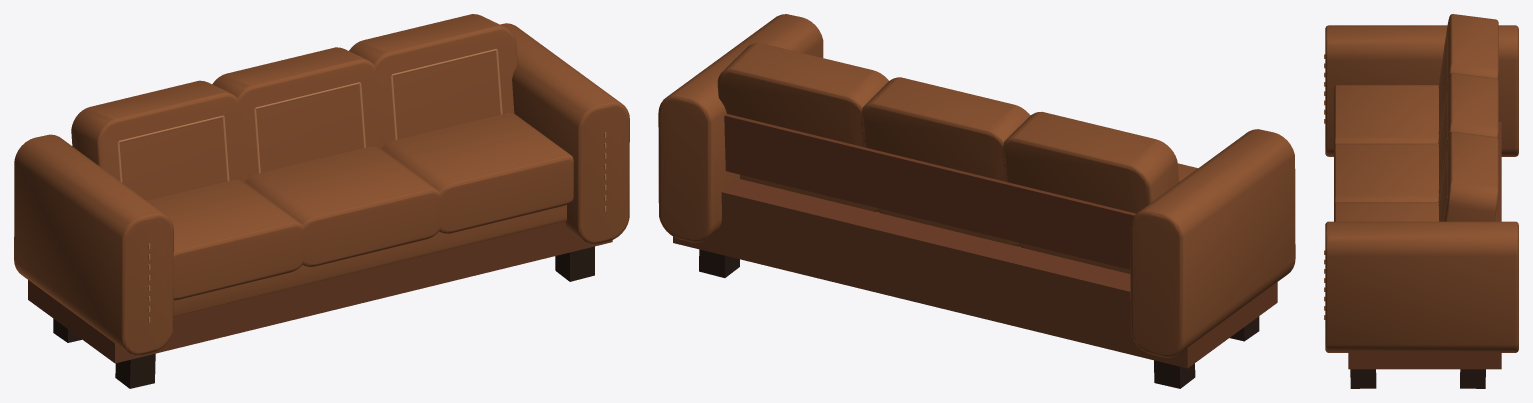
Rendered from cognac-leather-sofa-armDepth-max.glb.
The picture shows the model from 3 angles, left to right: view 1: azimuth 30°, elevation 25°; view 2: azimuth 150°, elevation 25°; view 3: azimuth 270°, elevation 25°; orthographic projection. The views are drawn at different scales.
Parts seen in each view (by area): view 1: sofa-part-28, sofa-part-4, back-cushion-3-part-0, seat-cushion-2-part-0, seat-cushion-1-part-0, back-cushion-2-part-0, back-cushion-1-part-0, sofa-part-7, seat-cushion-3-part-0, sofa-part-5, sofa-part-2, sofa-part-0; view 2: sofa-part-4, sofa-part-28, sofa-part-6, sofa-part-7, back-cushion-3-part-0, back-cushion-1-part-0, back-cushion-2-part-0, sofa-part-3, sofa-part-1, seat-cushion-3-part-0, seat-cushion-2-part-0, seat-cushion-1-part-0; view 3: sofa-part-7, sofa-part-28, seat-cushion-2-part-0, seat-cushion-3-part-0, back-cushion-1-part-0, back-cushion-2-part-0, back-cushion-3-part-0, sofa-part-4, seat-cushion-1-part-0, sofa-part-0, sofa-part-1.
Part boxes in pixels (x1,y1,x2,y2): sofa-part-28: (14,134,173,355); sofa-part-4: (28,221,612,363); back-cushion-3-part-0: (71,80,245,200); seat-cushion-2-part-0: (245,146,443,267); seat-cushion-1-part-0: (381,112,573,233); back-cushion-2-part-0: (212,47,380,179); back-cushion-1-part-0: (349,14,517,148); sofa-part-7: (500,23,629,244); seat-cushion-3-part-0: (147,179,306,300); sofa-part-5: (173,205,566,316); sofa-part-2: (115,353,155,388); sofa-part-0: (555,246,594,281); sofa-part-4: (673,179,1277,368); sofa-part-28: (1130,129,1295,357); sofa-part-6: (724,114,1135,269); sofa-part-7: (658,14,823,242); back-cushion-3-part-0: (1002,112,1179,213); back-cushion-1-part-0: (717,43,888,147); back-cushion-2-part-0: (861,77,1030,181); sofa-part-3: (1154,360,1195,388); sofa-part-1: (699,249,739,277); seat-cushion-3-part-0: (1019,163,1197,273); seat-cushion-2-part-0: (877,208,1019,246); seat-cushion-1-part-0: (740,174,878,211); sofa-part-7: (1325,221,1518,352); sofa-part-28: (1325,25,1518,156); seat-cushion-2-part-0: (1334,143,1438,205); seat-cushion-3-part-0: (1334,85,1438,146); back-cushion-1-part-0: (1438,131,1498,221); back-cushion-2-part-0: (1438,72,1498,201); back-cushion-3-part-0: (1438,14,1498,143); sofa-part-4: (1348,122,1501,369); seat-cushion-1-part-0: (1334,202,1438,221); sofa-part-0: (1350,369,1376,388); sofa-part-1: (1460,369,1485,388).
Bounding box in the file's own units: 2.64 × 1.08 × 0.992.
